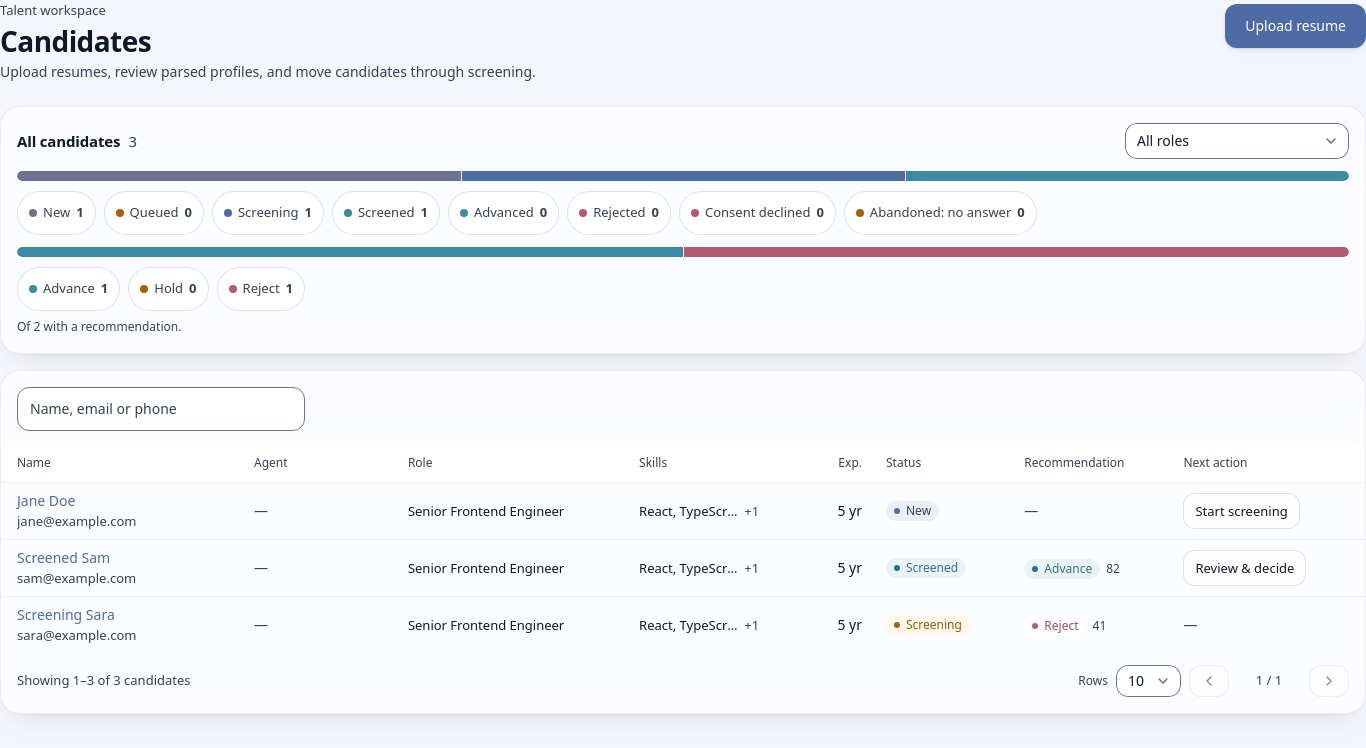
Test: CandidatesPage › keeps the upload form COLLAPSED until asked for
The width and height of the screenshot is (1366, 748).
Check: the link "Jane Doe" is shown, box x1=17 y1=491 x2=76 y2=510
Check: the button "Upload & Parse" is not shown
Step 1. Click the button "Upload resume" → [1296, 26], box x1=1225 y1=4 x2=1365 y2=48
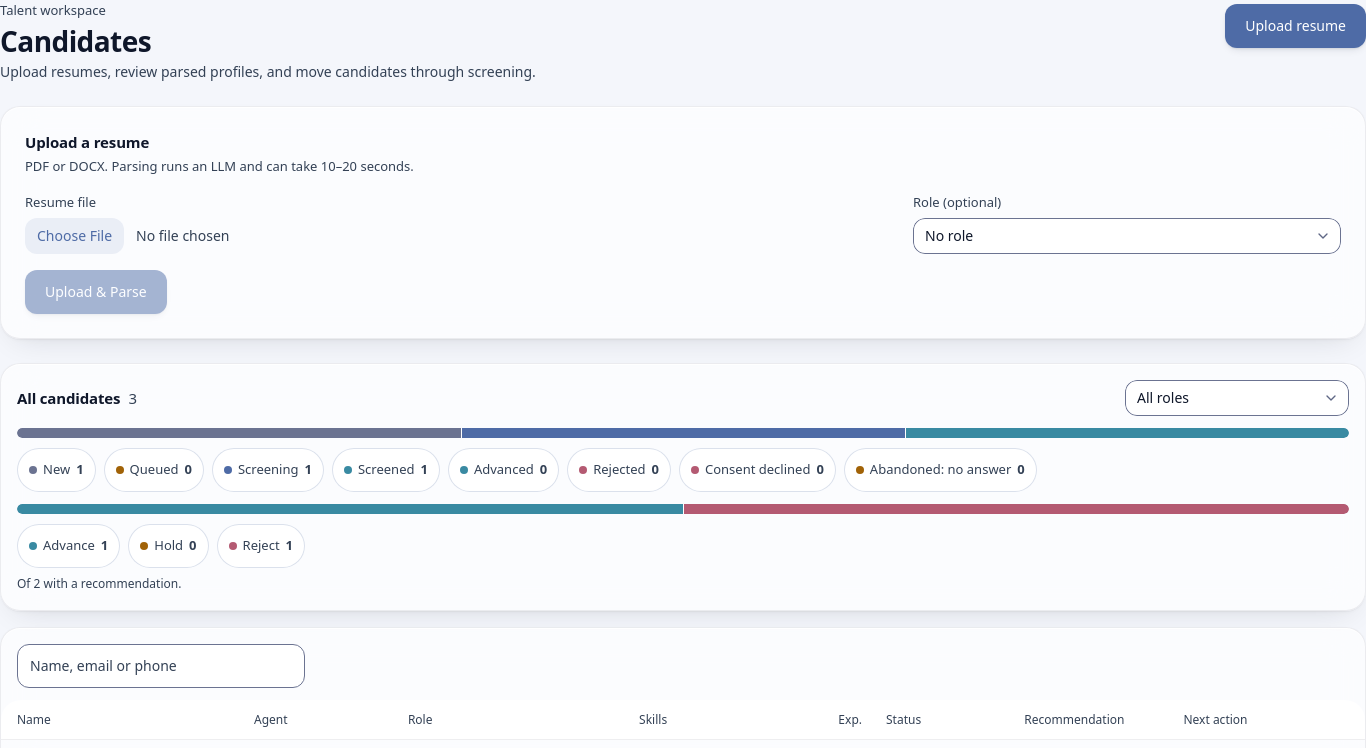
Check: the button "Upload & Parse" is shown, box x1=25 y1=270 x2=167 y2=314
